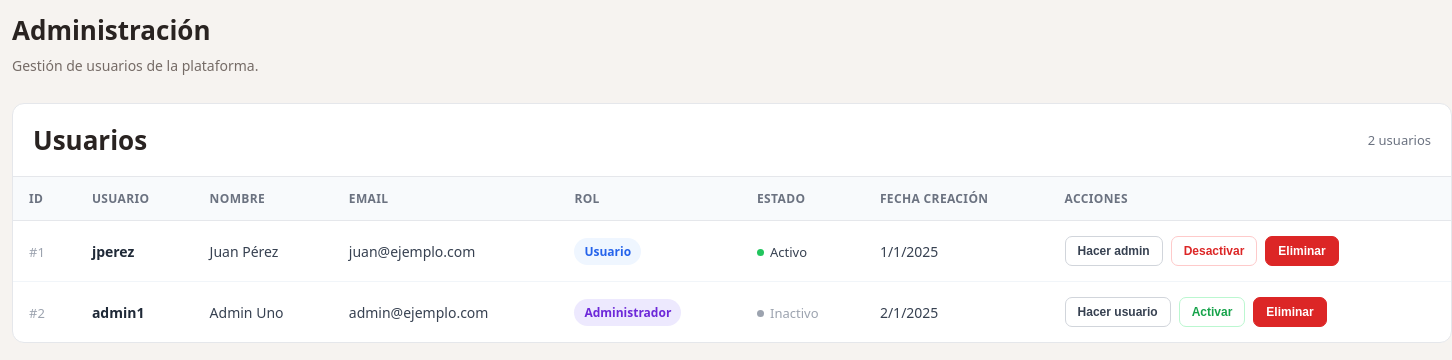
Test: Administracion › elimina el usuario cuando se confirma la acción
The image size is (1452, 360).
Expected: the text "jperez" is shown, left=92, top=242, right=134, bottom=260
Click the button "Eliminar" in the row of "jperez". click: {"x": 1302, "y": 251}
box: left=1265, top=236, right=1339, bottom=266
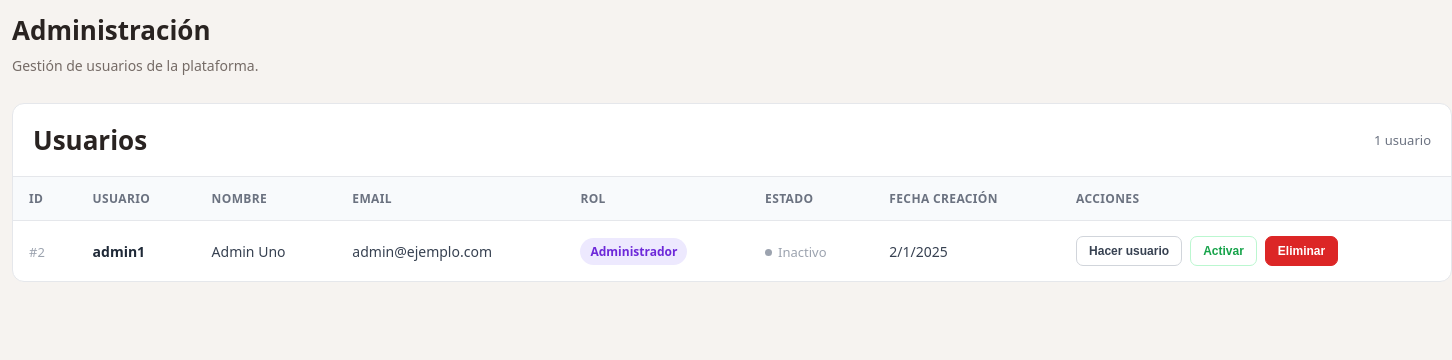
Expected: the text "jperez" is gone
Expected: the text "1 usuario" is shown, left=1374, top=131, right=1431, bottom=149
